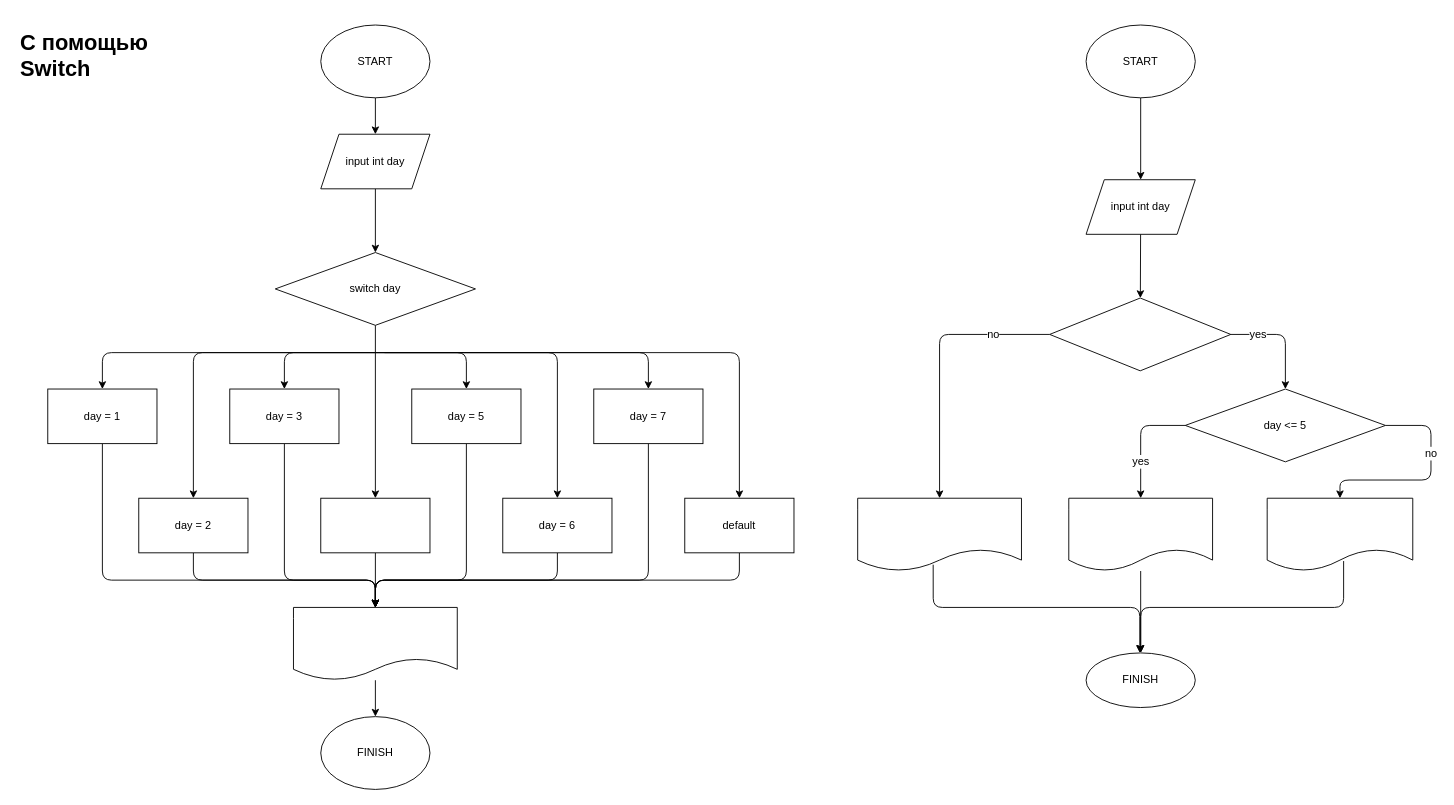
This 1454x805 diagram has some shape labels left out. The shapes that lost their labels are listed below. From the top down, each one's centre as x and y in pixels, then its label:
(1140,334): day >= 1 & day <= 7
(375,525): day = 4
(939,534): print "такого дня недели нет"
(1140,534): print "Рабочий день"
(1339,534): print "Выходной день"
(375,643): print "Рабочий день" print "Выходной день" print "такого дня недели нет"
